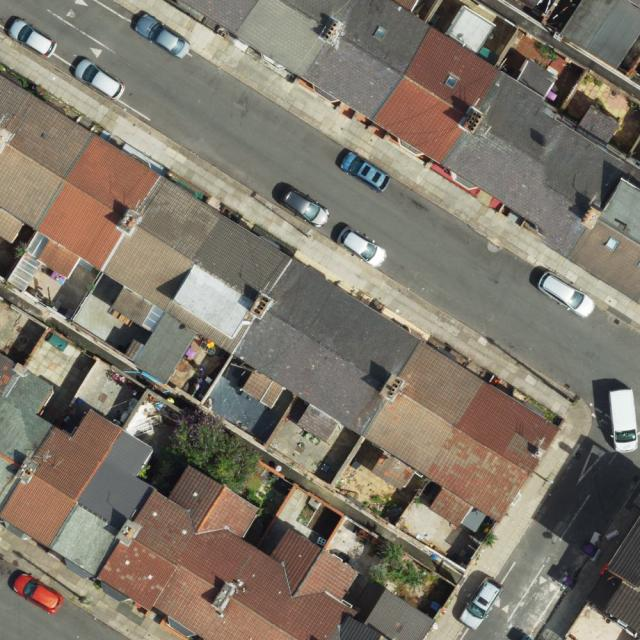roof: (0, 74, 559, 526), (177, 0, 640, 305), (0, 354, 391, 640), (605, 518, 640, 635)
skylight: (603, 238, 620, 253), (373, 26, 387, 42), (445, 74, 458, 89)
